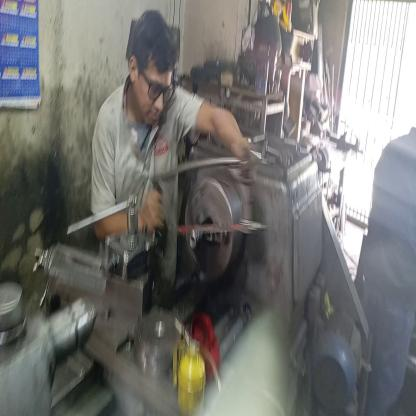lentes: (136, 59, 176, 108)
